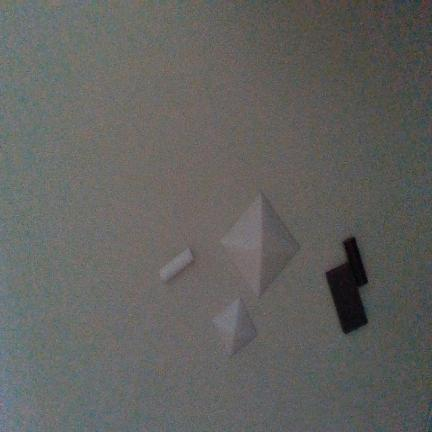Cilindro: (343, 236, 368, 286), (159, 248, 193, 282)
Paralelepipedo: (325, 261, 368, 334)
Piramide: (220, 192, 300, 299), (212, 298, 256, 356)
